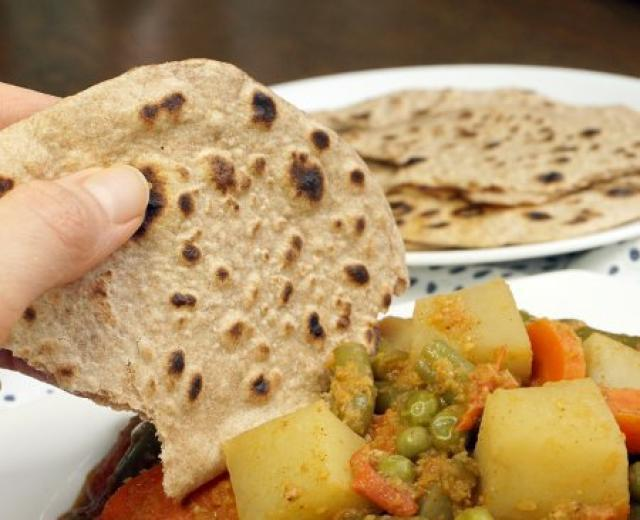chapati: (1, 60, 630, 495)
